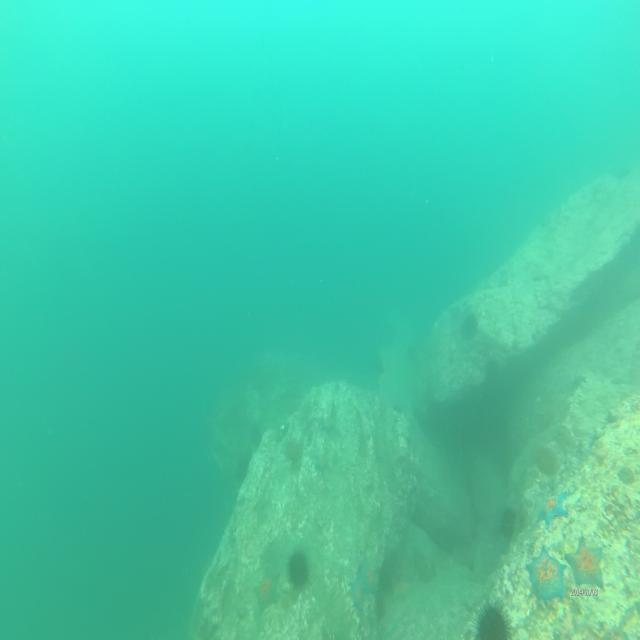echinus: (471, 595, 513, 640), (286, 549, 311, 591), (498, 504, 516, 538), (460, 310, 478, 342)
starfish: (522, 543, 568, 605), (569, 532, 608, 593), (251, 570, 283, 614), (535, 488, 568, 526), (347, 576, 366, 612), (391, 577, 413, 602), (359, 561, 374, 595), (314, 451, 326, 471)
